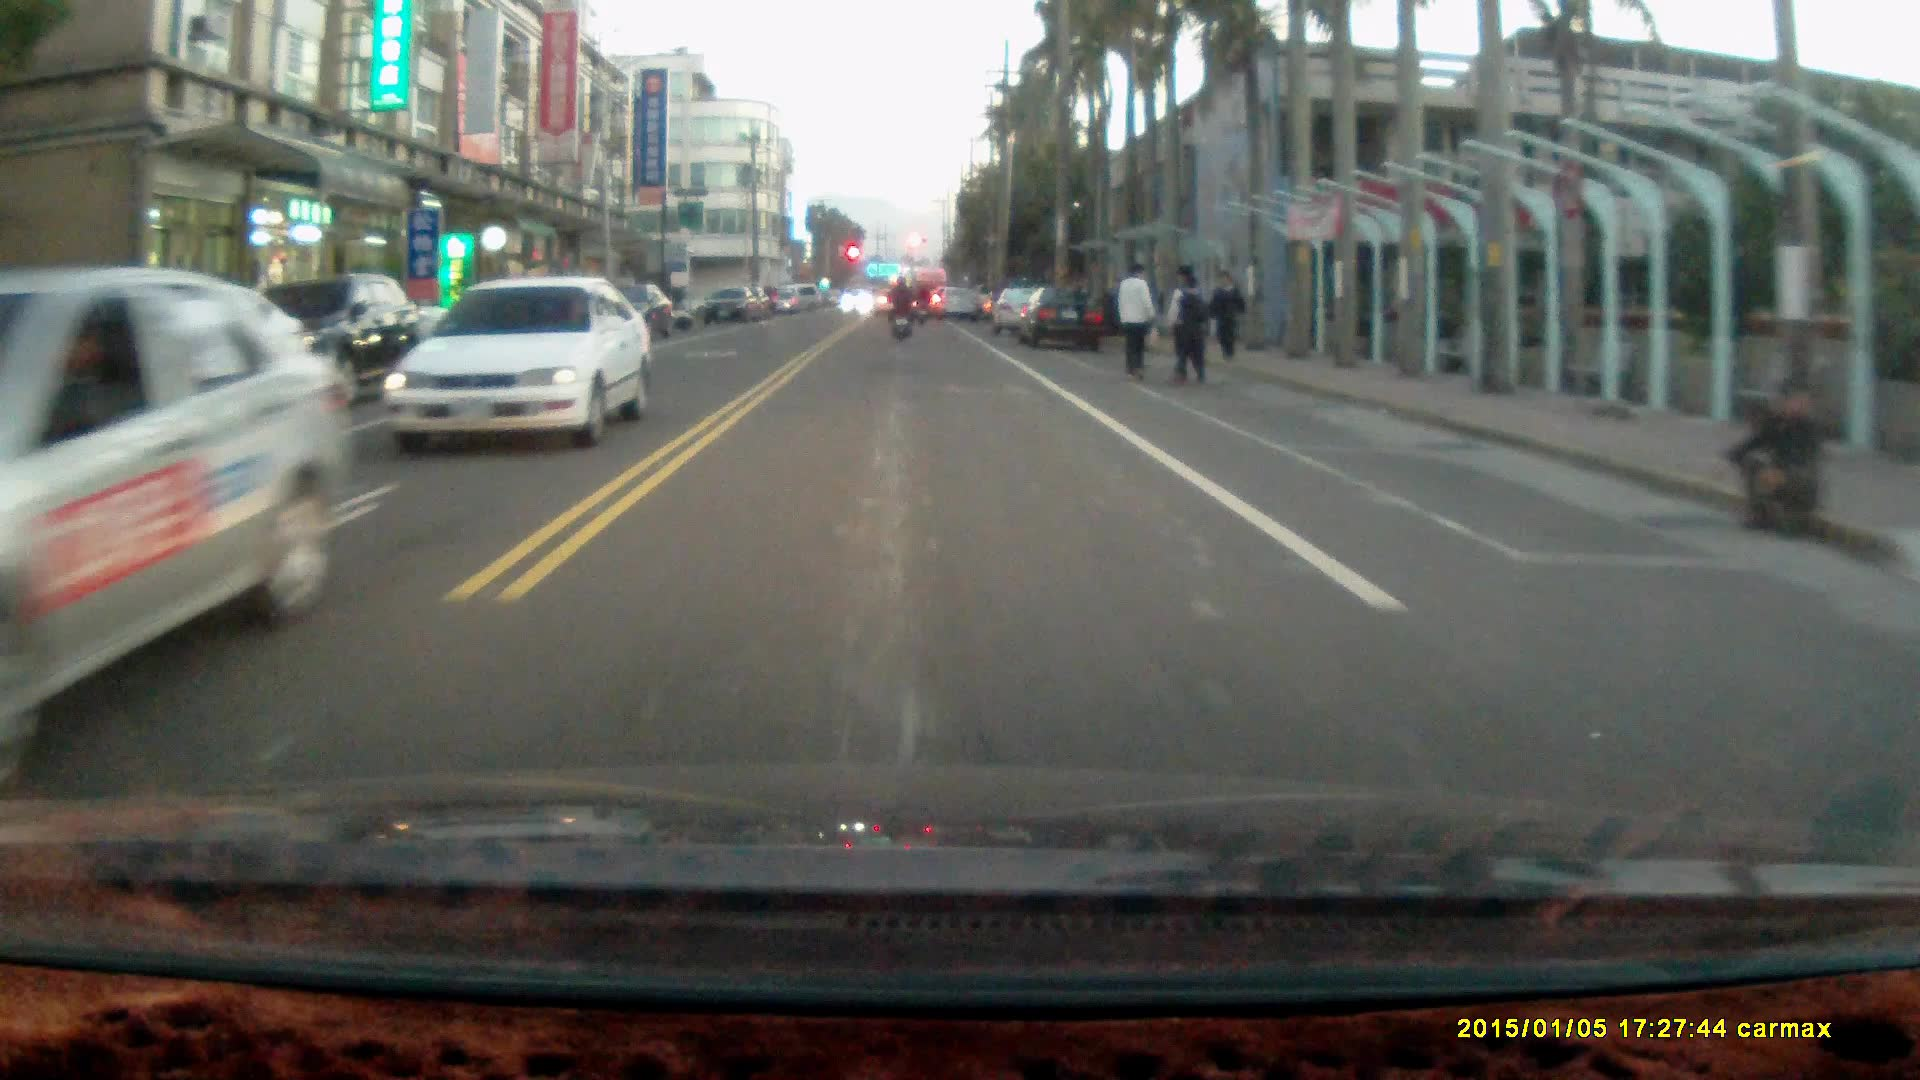pedestrian: (1721, 385, 1827, 540), (1114, 259, 1155, 385), (1171, 277, 1210, 391), (1211, 269, 1245, 365)
rider: (884, 273, 915, 344)
vehicle: (1, 264, 359, 726), (389, 277, 652, 444), (1017, 287, 1107, 350)
